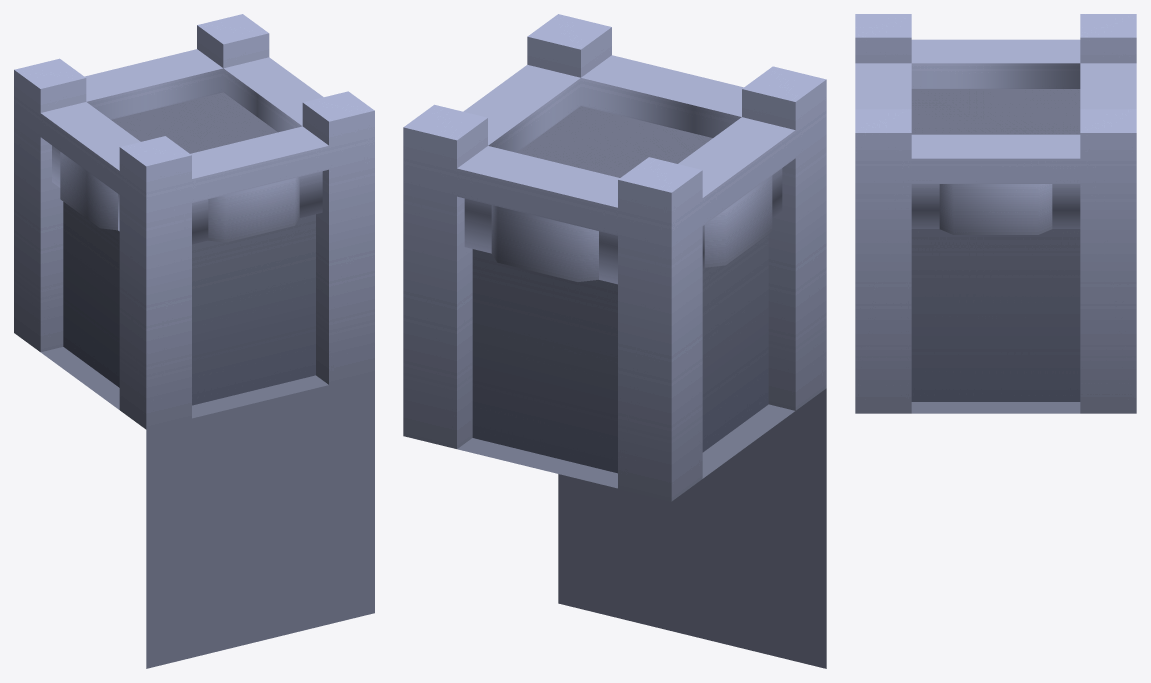
File: wall-with-vertical-edge-below.glb
The picture shows the model from 3 angles, left to right: view 1: azimuth 30°, elevation 25°; view 2: azimuth 150°, elevation 25°; view 3: azimuth 270°, elevation 25°; orthographic projection. The views are drawn at different scales.
Parts seen in each view (by area): view 1: wall; view 2: wall; view 3: wall.
Part boxes in pixels (x1,y1,x2,y2): wall: (14, 14, 374, 668); wall: (403, 14, 826, 668); wall: (855, 14, 1136, 413).
Size of the model in its own units: 1 by 2.1 by 1.
2 materials, 2 textured.
